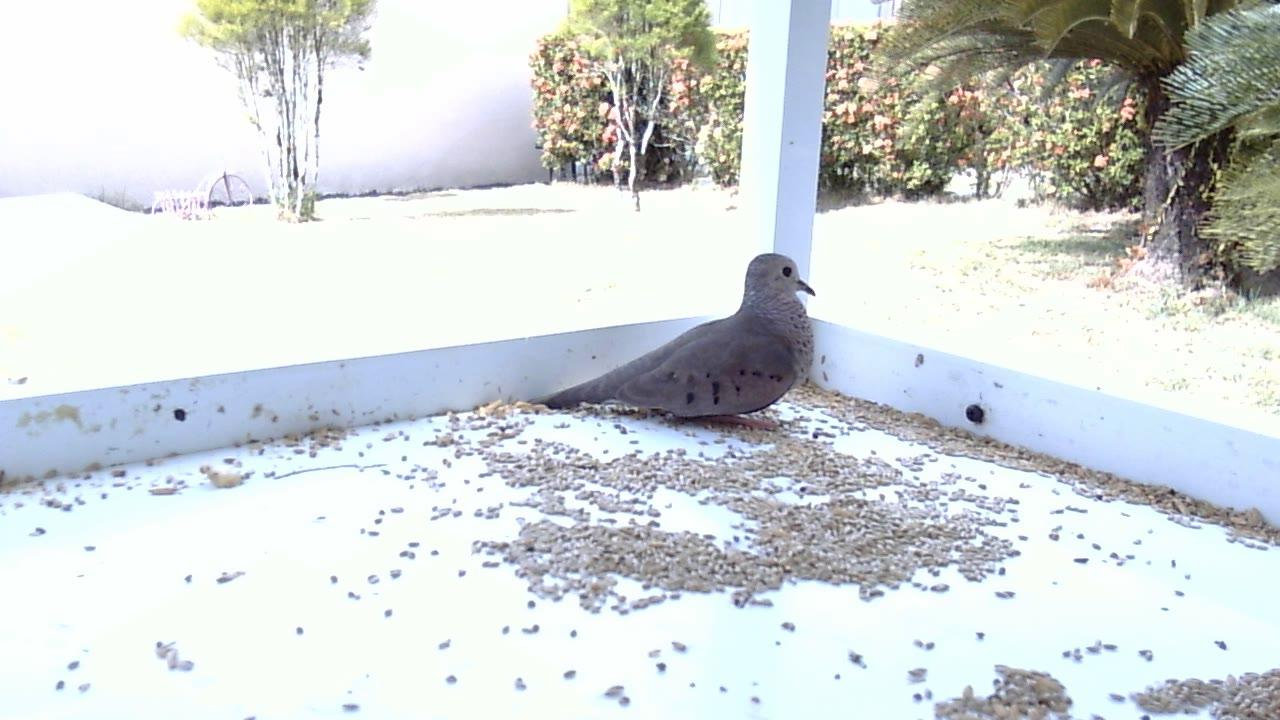rolinha: (544, 251, 820, 435)
